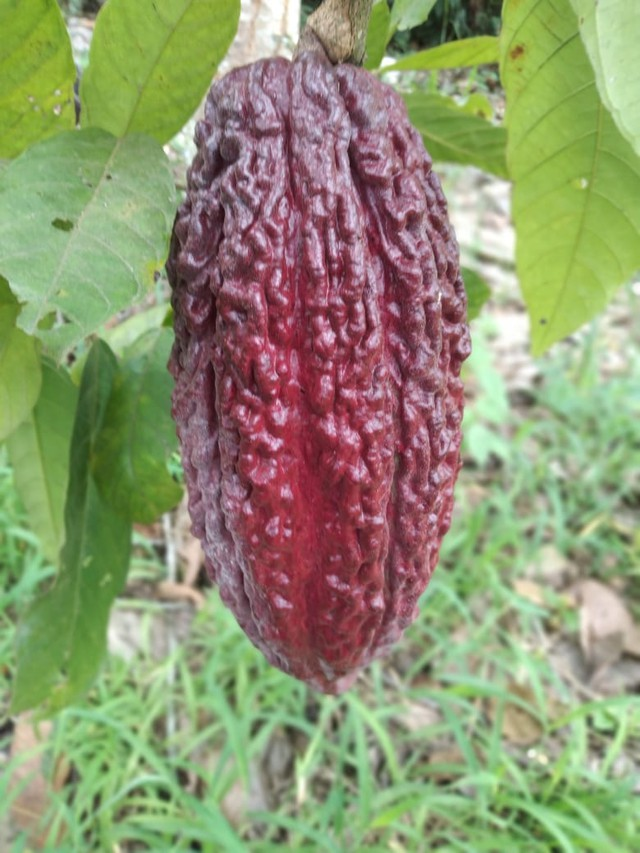Health: (162, 52, 476, 696)
